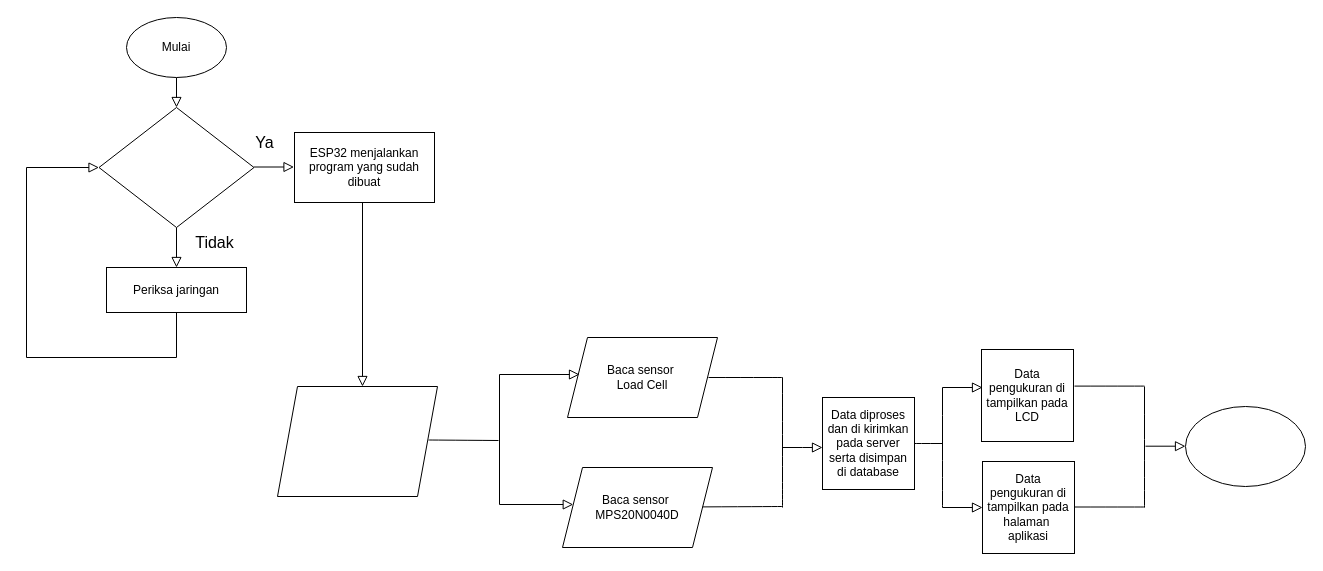
This 1323x571 diagram has some shape labels left out. Each missing label, with the box of its shape:
Apakah alat sudah terhubung ke jaringan?: (98, 106, 254, 228)
Input perintah untuk menjalankan fungsi: (276, 386, 438, 496)
Selesai: (1184, 406, 1306, 486)
